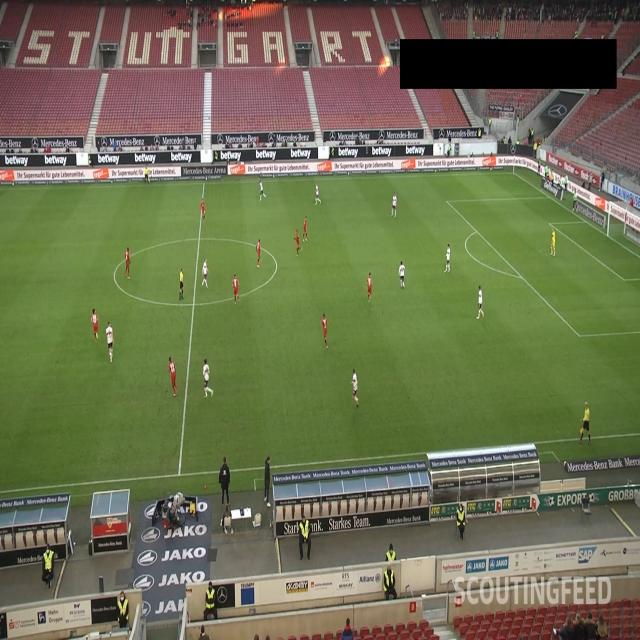f_player: (350, 368, 365, 410), (202, 357, 214, 399), (548, 226, 562, 262), (167, 356, 179, 396), (89, 306, 101, 340), (201, 256, 211, 295), (256, 240, 268, 272), (475, 286, 485, 322), (105, 322, 114, 362), (257, 179, 270, 206), (314, 178, 324, 213), (302, 215, 312, 248), (123, 248, 133, 278), (293, 229, 303, 258), (398, 261, 408, 289), (320, 315, 328, 349), (443, 245, 452, 275), (231, 274, 240, 303), (199, 196, 209, 222), (389, 192, 398, 219), (366, 275, 374, 304), (392, 194, 400, 217)
umpire: (578, 402, 592, 446), (141, 162, 154, 190), (177, 268, 185, 299)
